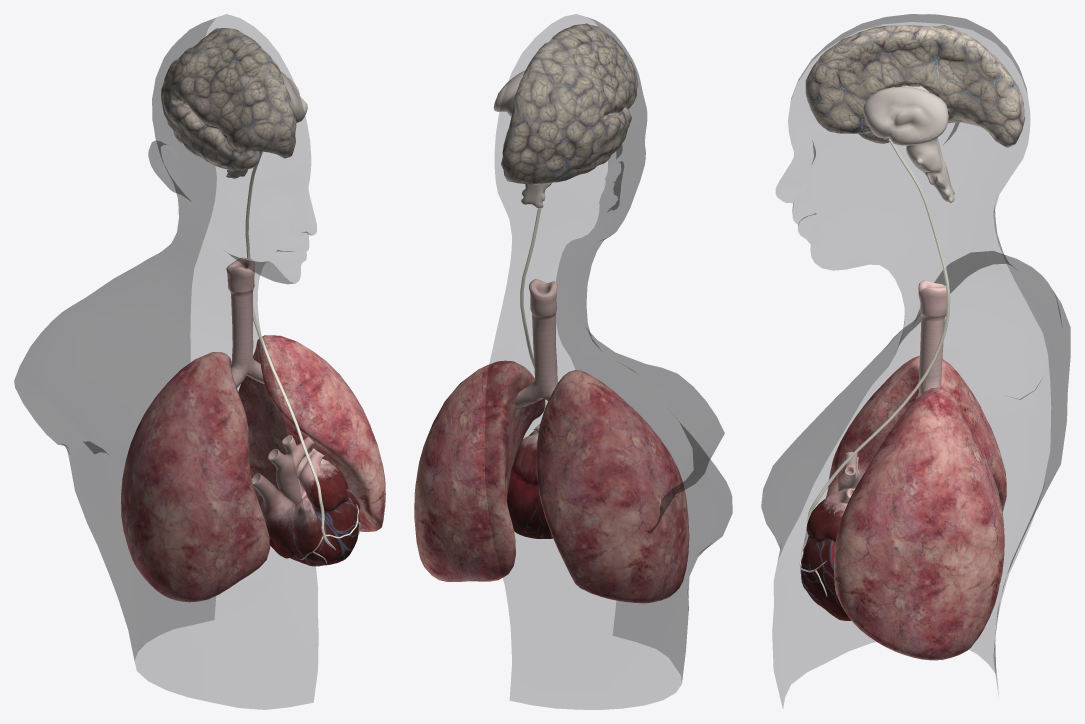
The model's file is human_stress_v01.glb.
3 views of the same model, side by side, from view 1: azimuth 30°, elevation 25°; view 2: azimuth 150°, elevation 25°; view 3: azimuth 270°, elevation 25° (orthographic). The views are drawn at different scales.
Parts seen in each view (by area): view 1: mesh_body, mesh_lungs, mesh_brain, mesh_heart, mesh_trachea, mesh_mid_brain; view 2: mesh_body, mesh_lungs, mesh_brain, mesh_heart, mesh_trachea, mesh_mid_brain; view 3: mesh_body, mesh_lungs, mesh_brain, mesh_heart, mesh_mid_brain, mesh_trachea.
Boxes of the visible parts, <box> form: mesh_body: <box>14,14,318,709</box>; mesh_lungs: <box>121,335,385,602</box>; mesh_brain: <box>160,28,296,170</box>; mesh_heart: <box>245,151,360,566</box>; mesh_trachea: <box>226,257,264,388</box>; mesh_mid_brain: <box>226,71,307,178</box>; mesh_body: <box>485,14,732,709</box>; mesh_lungs: <box>414,360,689,603</box>; mesh_brain: <box>501,23,638,184</box>; mesh_heart: <box>507,190,552,538</box>; mesh_trachea: <box>515,279,557,407</box>; mesh_mid_brain: <box>493,70,552,207</box>; mesh_body: <box>761,14,1070,706</box>; mesh_lungs: <box>826,355,1006,660</box>; mesh_brain: <box>805,24,1024,147</box>; mesh_heart: <box>799,138,950,620</box>; mesh_mid_brain: <box>863,86,954,202</box>; mesh_trachea: <box>915,280,949,399</box>.
Size of the model in its own units: 0.3191 by 0.6217 by 0.2536.
Materials: 3 (1 with a texture image).
